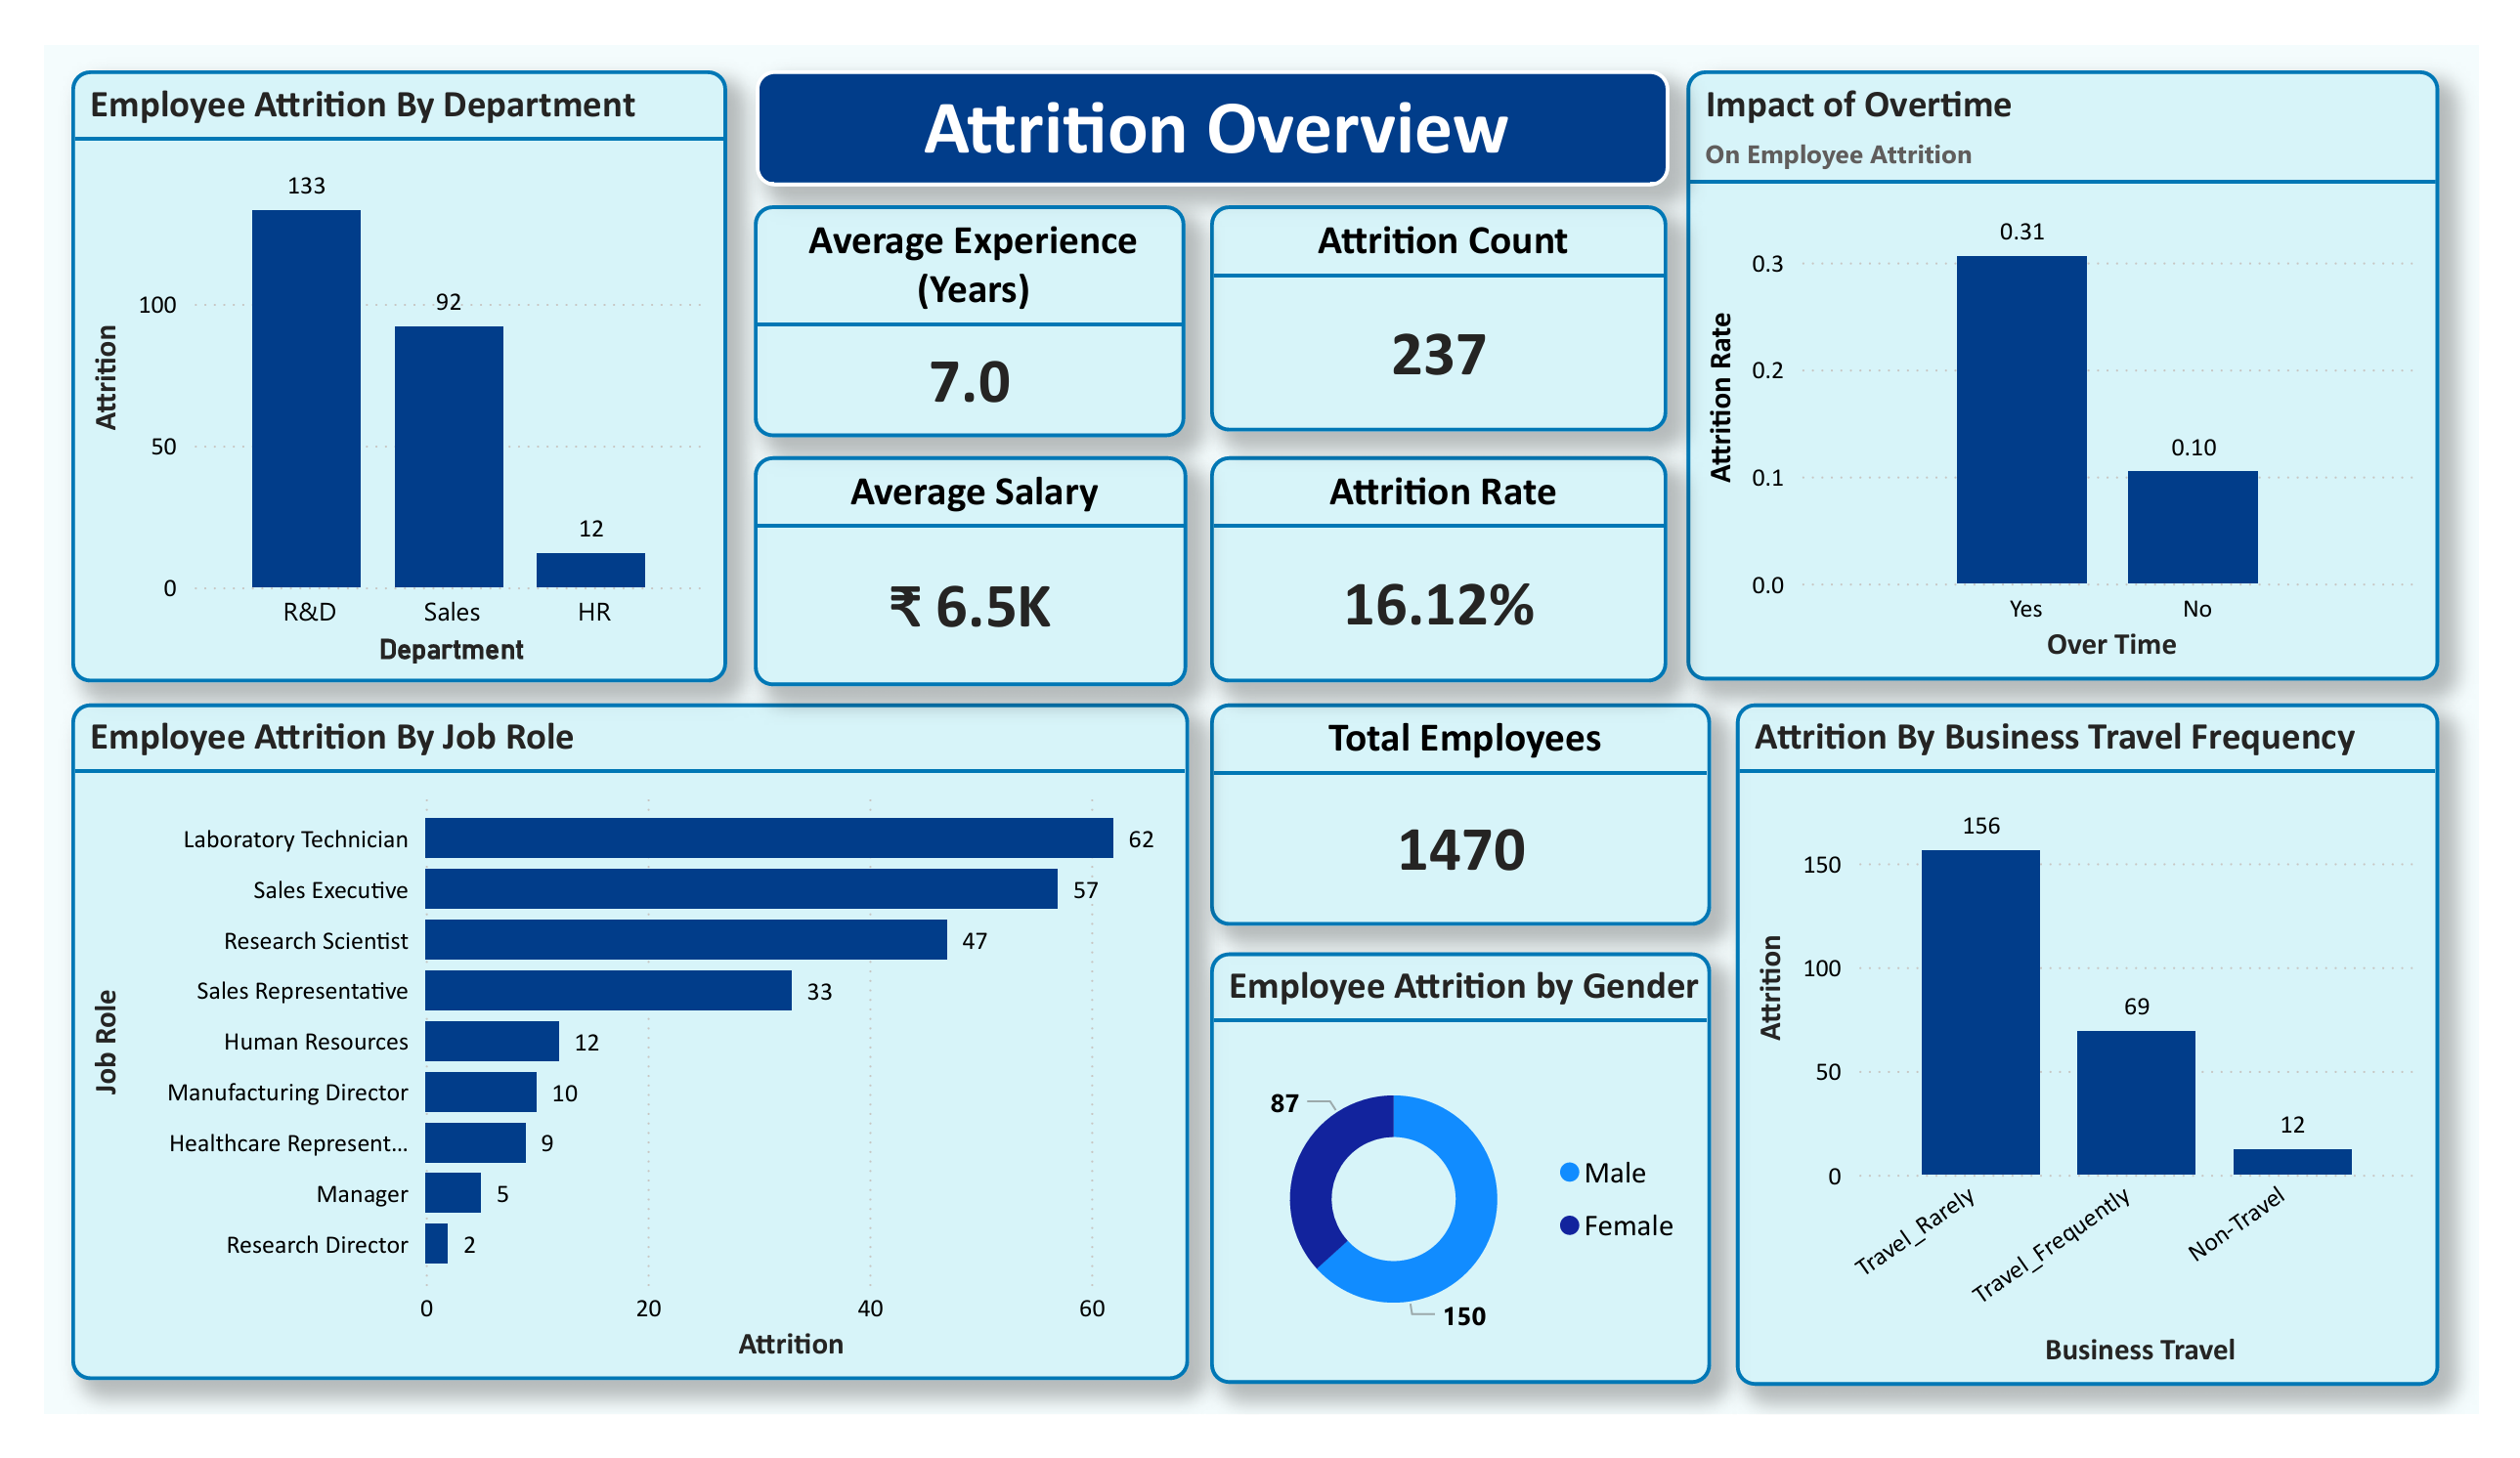

The dashboard page shown, as its layout file describes it:
{"tool":"powerbi","page":{"name":"Executive Overwiew","canvas":[1280,720],"ordinal":0},"visuals":[{"type":"card","title":"Total Employees","fields":{"Values":["HR data.Total_emp"]},"box":[612.9,345.7,262.9,117.1],"z":0},{"type":"clusteredColumnChart","title":"Employee Attrition By Department","fields":{"Category":["HR data.Department"],"Y":["HR data.attrition_count"]},"box":[13.9,12.9,344.6,321.8],"z":2000},{"type":"clusteredBarChart","title":"Employee Attrition By Job Role","fields":{"Category":["HR data.Job Role"],"Y":["HR data.attrition_count"]},"box":[13.9,345.6,587.9,356.5],"z":3000},{"type":"donutChart","title":"Employee Attrition by Gender","fields":{"Category":["HR data.Gender"],"Y":["HR data.attrition_count"]},"box":[612.9,477.1,262.9,227.1],"z":4000},{"type":"columnChart","title":"Impact of Overtime ","fields":{"Category":["HR data.Over Time"],"Y":["HR data.attrition_rate"]},"box":[862.9,12.9,395.7,321.4],"z":5000},{"type":"clusteredColumnChart","title":"Attrition By Business Travel Frequency","fields":{"Category":["HR data.Business Travel"],"Y":["HR data.attrition_count"]},"box":[888.7,345.9,369.8,359.1],"z":6000},{"type":"textbox","title":"Executive Overview","box":[372.5,13,480.3,53.9],"z":7000},{"type":"card","title":"Attrition Rate","fields":{"Values":["HR data.attrition_rate"]},"box":[612.7,215.5,240.3,119.2],"z":8000},{"type":"card","title":" Attrition Count","fields":{"Values":["HR data.attrition_count"]},"box":[612.7,88.4,240.3,114.2],"z":9000},{"type":"card","title":"Average Experience","fields":{"Values":["HR data.avg_experience"]},"box":[372.4,87.4,228.4,115.2],"z":10000},{"type":"card","title":"Average Salary","fields":{"Values":["HR data.avg_salary"]},"box":[373.4,215.5,227.4,121.2],"z":11000}]}

Visuals, with their boxes in screenshot pixels (x1, y1, x2, y2), scaled from the page's 1280x720 canvas onto the 2520x1458 screenshot:
"Total Employees" card: left=1206, top=700, right=1724, bottom=937
"Employee Attrition By Department" clusteredColumnChart: left=27, top=26, right=706, bottom=678
"Employee Attrition By Job Role" clusteredBarChart: left=27, top=700, right=1185, bottom=1422
"Employee Attrition by Gender" donutChart: left=1206, top=966, right=1724, bottom=1426
"Impact of Overtime " columnChart: left=1699, top=26, right=2478, bottom=677
"Attrition By Business Travel Frequency" clusteredColumnChart: left=1750, top=701, right=2478, bottom=1428
"Executive Overview" textbox: left=733, top=26, right=1679, bottom=136
"Attrition Rate" card: left=1206, top=437, right=1679, bottom=678
" Attrition Count" card: left=1206, top=179, right=1679, bottom=410
"Average Experience" card: left=733, top=177, right=1183, bottom=410
"Average Salary" card: left=735, top=437, right=1183, bottom=682
